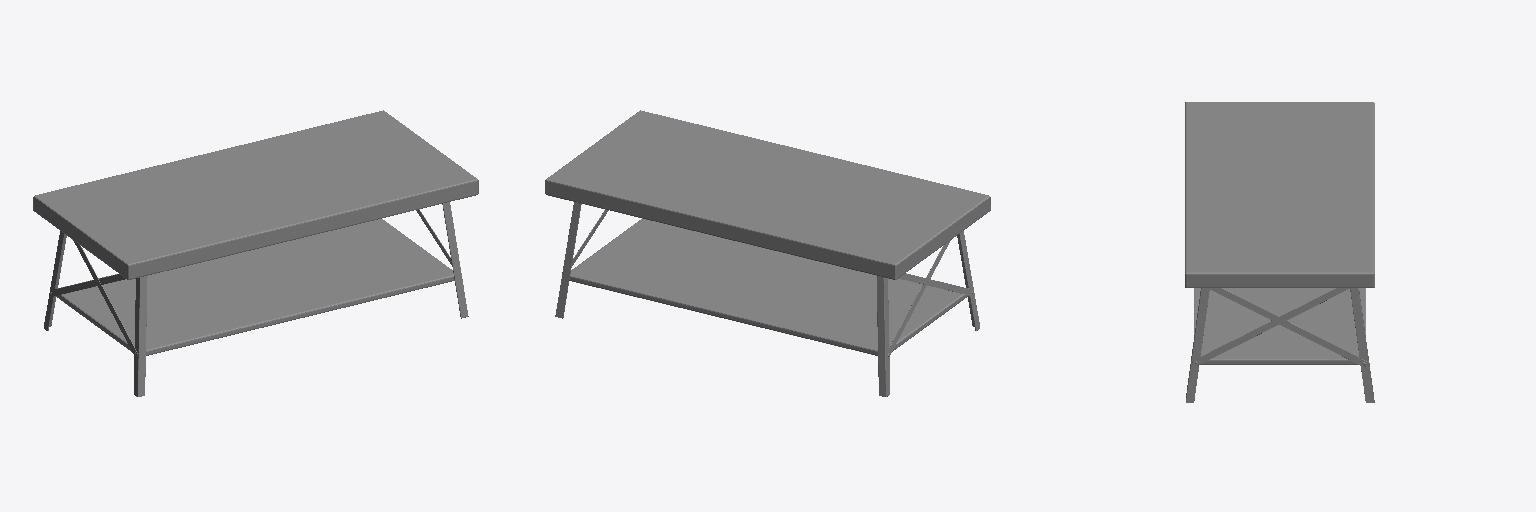
File: industrial_cocktail_table.obj
The picture shows the model from 3 angles: view 1: azimuth 30°, elevation 25°; view 2: azimuth 150°, elevation 25°; view 3: azimuth 270°, elevation 25°; orthographic projection.
Visible parts, largest first — view 1: Top_Shelf, Bottom_Self, Feet, Metal_Armature; view 2: Top_Shelf, Bottom_Self, Feet, Metal_Armature; view 3: Top_Shelf, Bottom_Self, Metal_Armature, Feet.
Part boxes in pixels (bbox=[...]): Top_Shelf: bbox=[33, 110, 478, 279]; Bottom_Self: bbox=[56, 219, 454, 355]; Feet: bbox=[44, 202, 468, 396]; Metal_Armature: bbox=[50, 209, 451, 357]; Top_Shelf: bbox=[545, 110, 990, 279]; Bottom_Self: bbox=[569, 219, 968, 355]; Feet: bbox=[555, 202, 979, 396]; Metal_Armature: bbox=[572, 210, 973, 357]; Top_Shelf: bbox=[1185, 102, 1374, 287]; Bottom_Self: bbox=[1194, 288, 1365, 364]; Metal_Armature: bbox=[1192, 288, 1366, 366]; Feet: bbox=[1186, 288, 1374, 402].
Bounding box in the file's own units: 120 × 44.85 × 56.3.